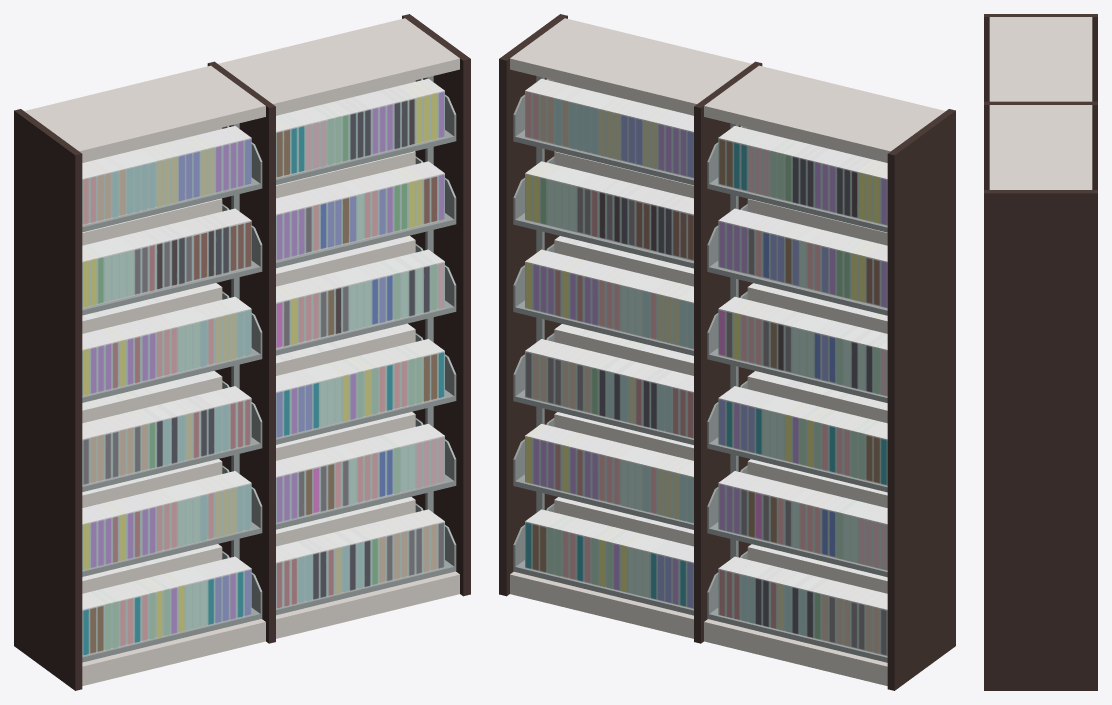
Rendered from multimedia_dvd_shelf.fbx.
3 renders of one model, left to right at view 1: azimuth 30°, elevation 25°; view 2: azimuth 150°, elevation 25°; view 3: azimuth 270°, elevation 25°, orthographic. The views are drawn at different scales.
Parts seen in each view (by area): view 1: multimedia_dvd_shelf; view 2: multimedia_dvd_shelf; view 3: multimedia_dvd_shelf.
Part boxes in pixels (box(x1,y1,x2,y2)): multimedia_dvd_shelf: box(14, 14, 470, 690); multimedia_dvd_shelf: box(499, 14, 955, 690); multimedia_dvd_shelf: box(984, 14, 1097, 690).
Size of the model in its own units: 0.0208 by 0.0269 by 0.00559.
Materials: 1 (1 with a texture image).
